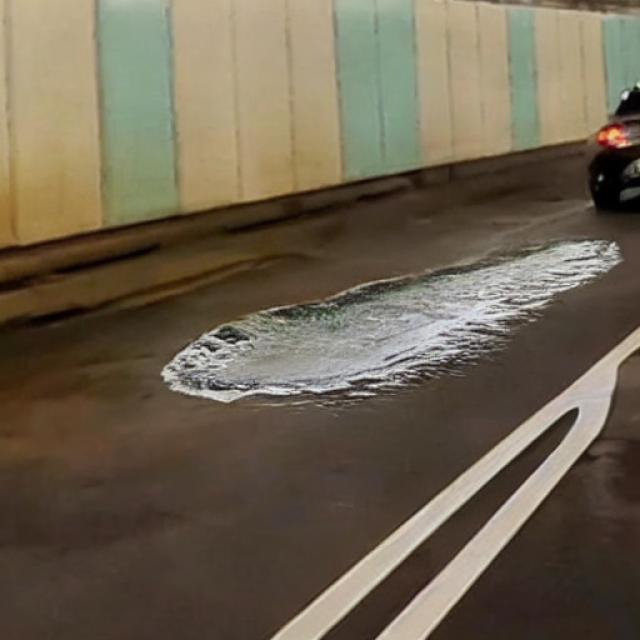puddle: (166, 240, 620, 401)
